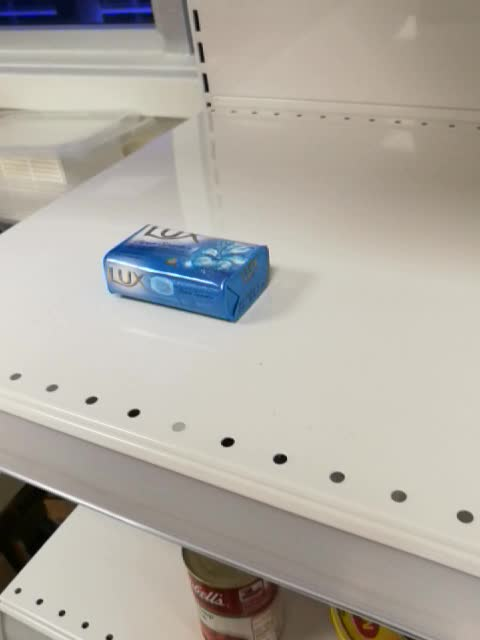soap: (102, 223, 269, 324)
